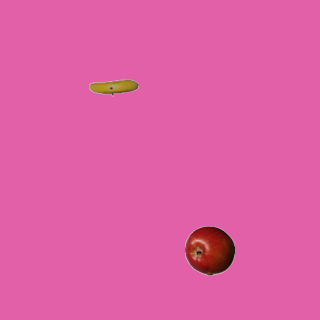Apple Braeburn: (184, 225, 234, 275)
Banana: (88, 62, 138, 112)
